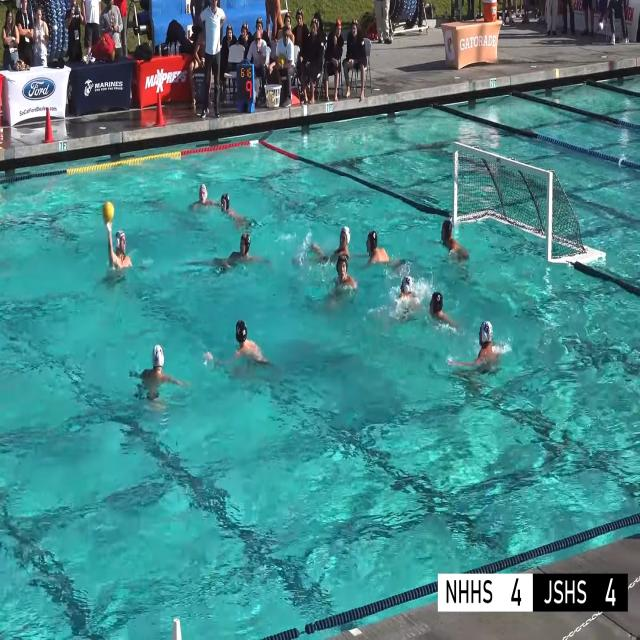ball: (102, 201, 114, 222)
